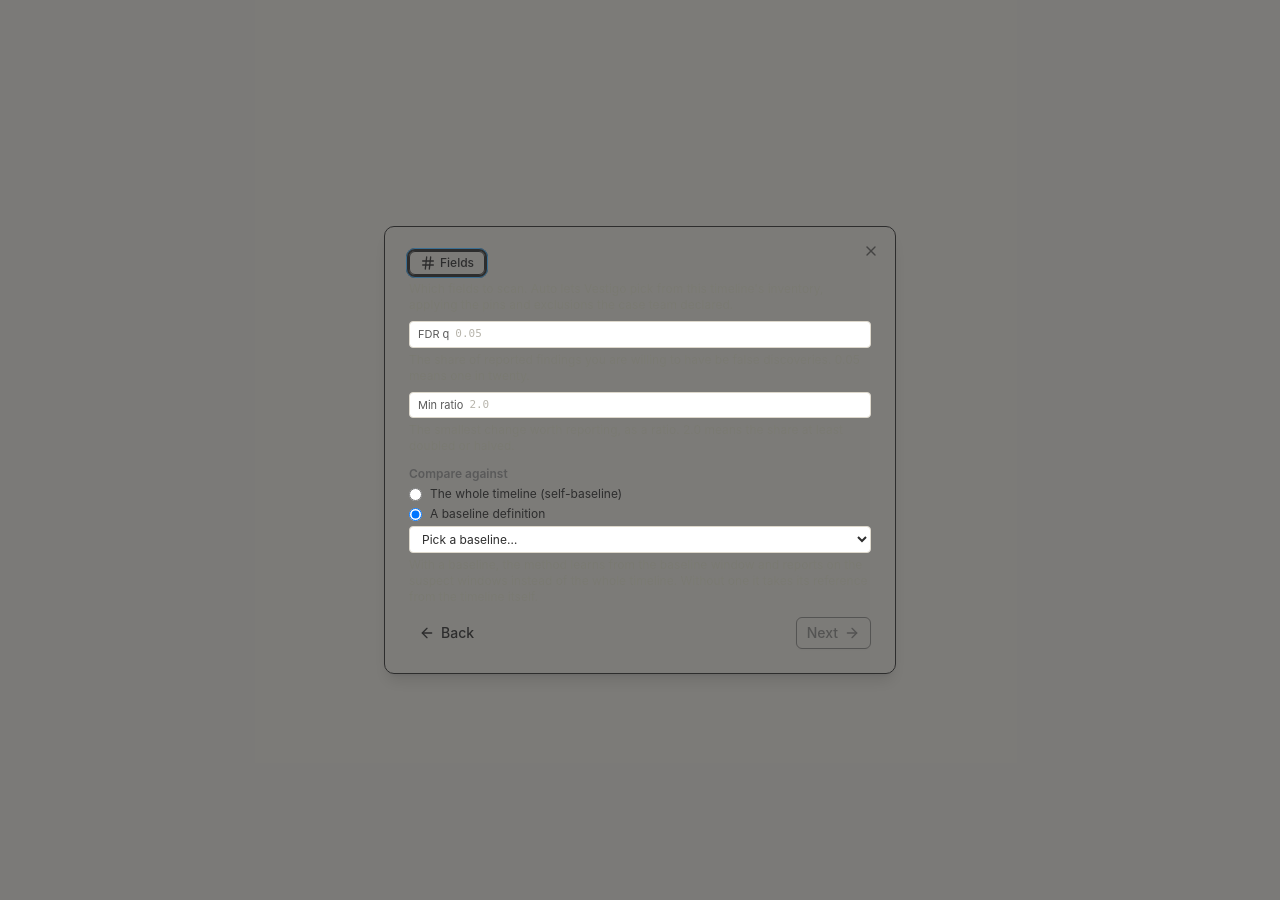
it: DetectorWizard › drops a stored baseline id the timeline no longer has
Check: the button with test id "wizard-next" is disabled, box [796,617,871,649]
Select "week before" in the dropdown with test id "wizard-baseline". click: x=640, y=540
box: [409,526,871,553]
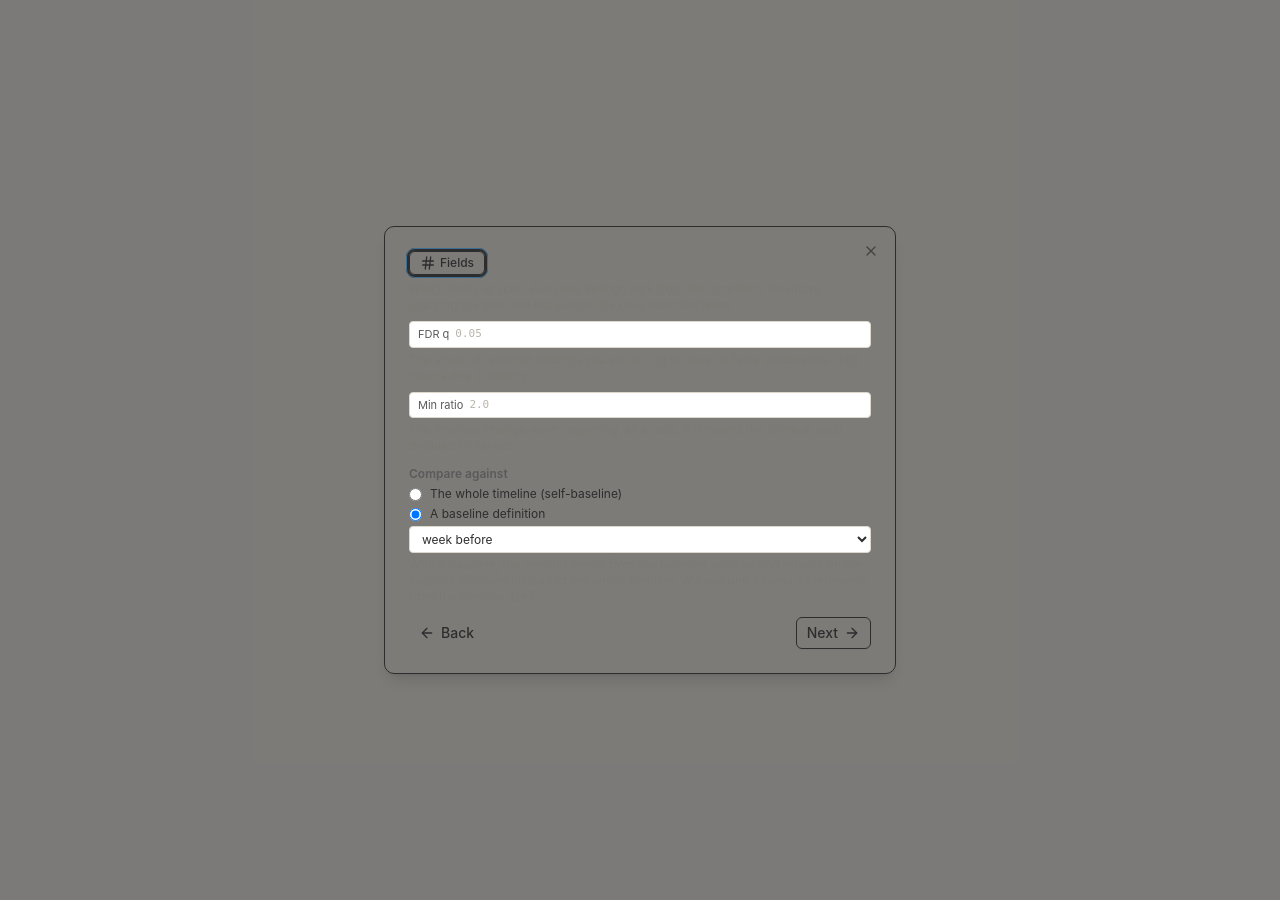
Check: the button with test id "wizard-next" is enabled, box [796,617,871,649]
